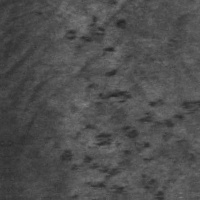rolled-in_scale: (52, 96, 199, 199), (62, 3, 139, 129)
